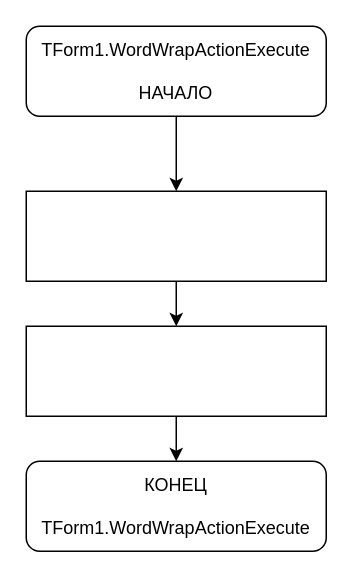
Some shapes in this 353 by 578 pixel diagram are drawn without their labels. The shapes that lost their labels are listed below. From the top down, each one's centre as x and y in pixels, then its label:
point 175,235: Memo1.WordWrap:= WordWrapAction.Checked;
point 175,370: Memo1.ScrollBars:= scrolls[Memo1.WordWrap];
